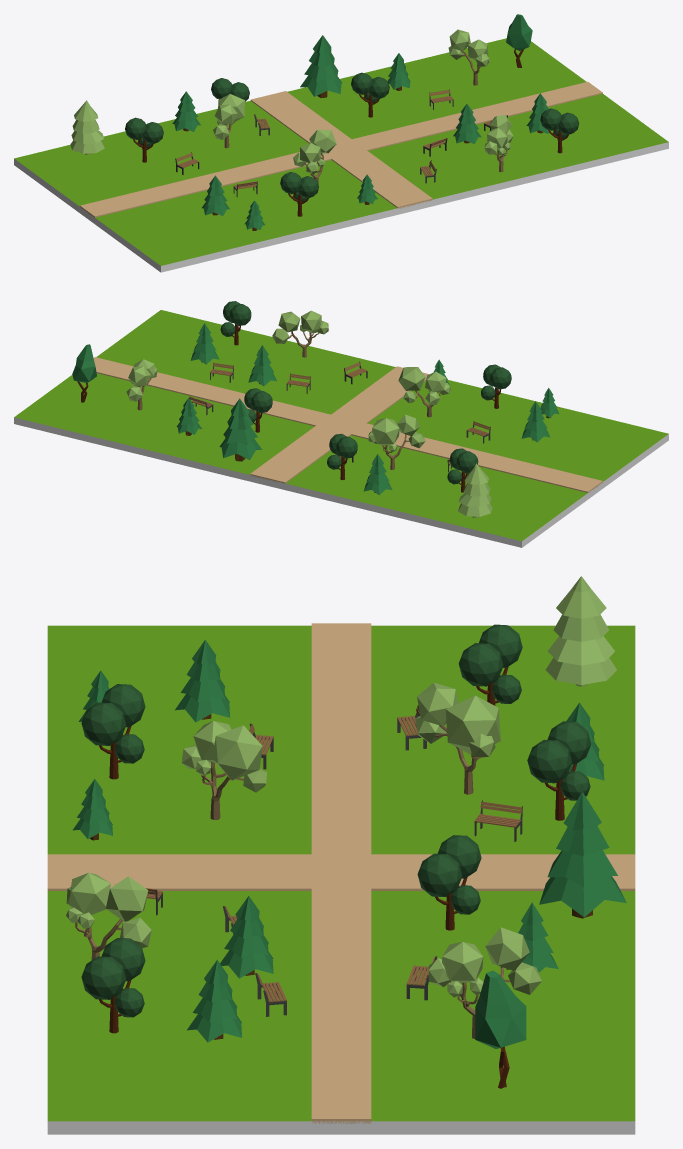
Rendered from Park 2x4.gltf.
The picture shows the model from 3 angles, top to bottom: view 1: azimuth 30°, elevation 25°; view 2: azimuth 150°, elevation 25°; view 3: azimuth 270°, elevation 25°; orthographic projection. The views are drawn at different scales.
Parts seen in each view (by area): view 1: BAZA 2x2.008, jelke.003, DRVO 3.004, kluice.002, Low poly tree, Tree 3.004, Tree 4.009, Tree 4.007, Tree 4.008, Icosphere.001; view 2: BAZA 2x2.008, jelke.003, DRVO 3.004, Tree 4.007, Tree 3.004, Low poly tree, Tree 4.008, kluice.002, Tree 4.009, Icosphere.001; view 3: BAZA 2x2.008, DRVO 3.004, jelke.003, Low poly tree, Tree 4.007, Tree 4.009, Tree 3.004, Tree 4.008, kluice.002, Icosphere.001.
Boxes of the visible parts, bbox=[...] form: BAZA 2x2.008: bbox=[14, 38, 668, 272]; jelke.003: bbox=[172, 35, 548, 230]; DRVO 3.004: bbox=[125, 72, 579, 216]; kluice.002: bbox=[175, 89, 507, 197]; Low poly tree: bbox=[70, 100, 104, 154]; Tree 3.004: bbox=[293, 129, 336, 184]; Tree 4.009: bbox=[448, 29, 489, 85]; Tree 4.007: bbox=[213, 94, 244, 148]; Tree 4.008: bbox=[484, 115, 513, 172]; Icosphere.001: bbox=[506, 14, 532, 67]; BAZA 2x2.008: bbox=[14, 310, 668, 547]; jelke.003: bbox=[176, 323, 559, 495]; DRVO 3.004: bbox=[220, 301, 511, 492]; Tree 4.007: bbox=[368, 414, 425, 469]; Tree 3.004: bbox=[398, 367, 450, 417]; Low poly tree: bbox=[458, 463, 492, 517]; Tree 4.008: bbox=[272, 310, 328, 357]; kluice.002: bbox=[189, 361, 490, 473]; Tree 4.009: bbox=[126, 359, 157, 410]; Icosphere.001: bbox=[72, 344, 96, 402]; BAZA 2x2.008: bbox=[47, 623, 635, 1134]; DRVO 3.004: bbox=[81, 624, 591, 1033]; jelke.003: bbox=[73, 639, 626, 1042]; Low poly tree: bbox=[545, 576, 616, 686]; Tree 4.007: bbox=[415, 682, 500, 794]; Tree 4.009: bbox=[428, 927, 541, 1038]; Tree 3.004: bbox=[181, 721, 266, 819]; Tree 4.008: bbox=[66, 872, 151, 959]; kluice.002: bbox=[115, 705, 522, 1016]; Icosphere.001: bbox=[475, 970, 526, 1088].
Size of the model in its own units: 7.99 by 1.02 by 4.
